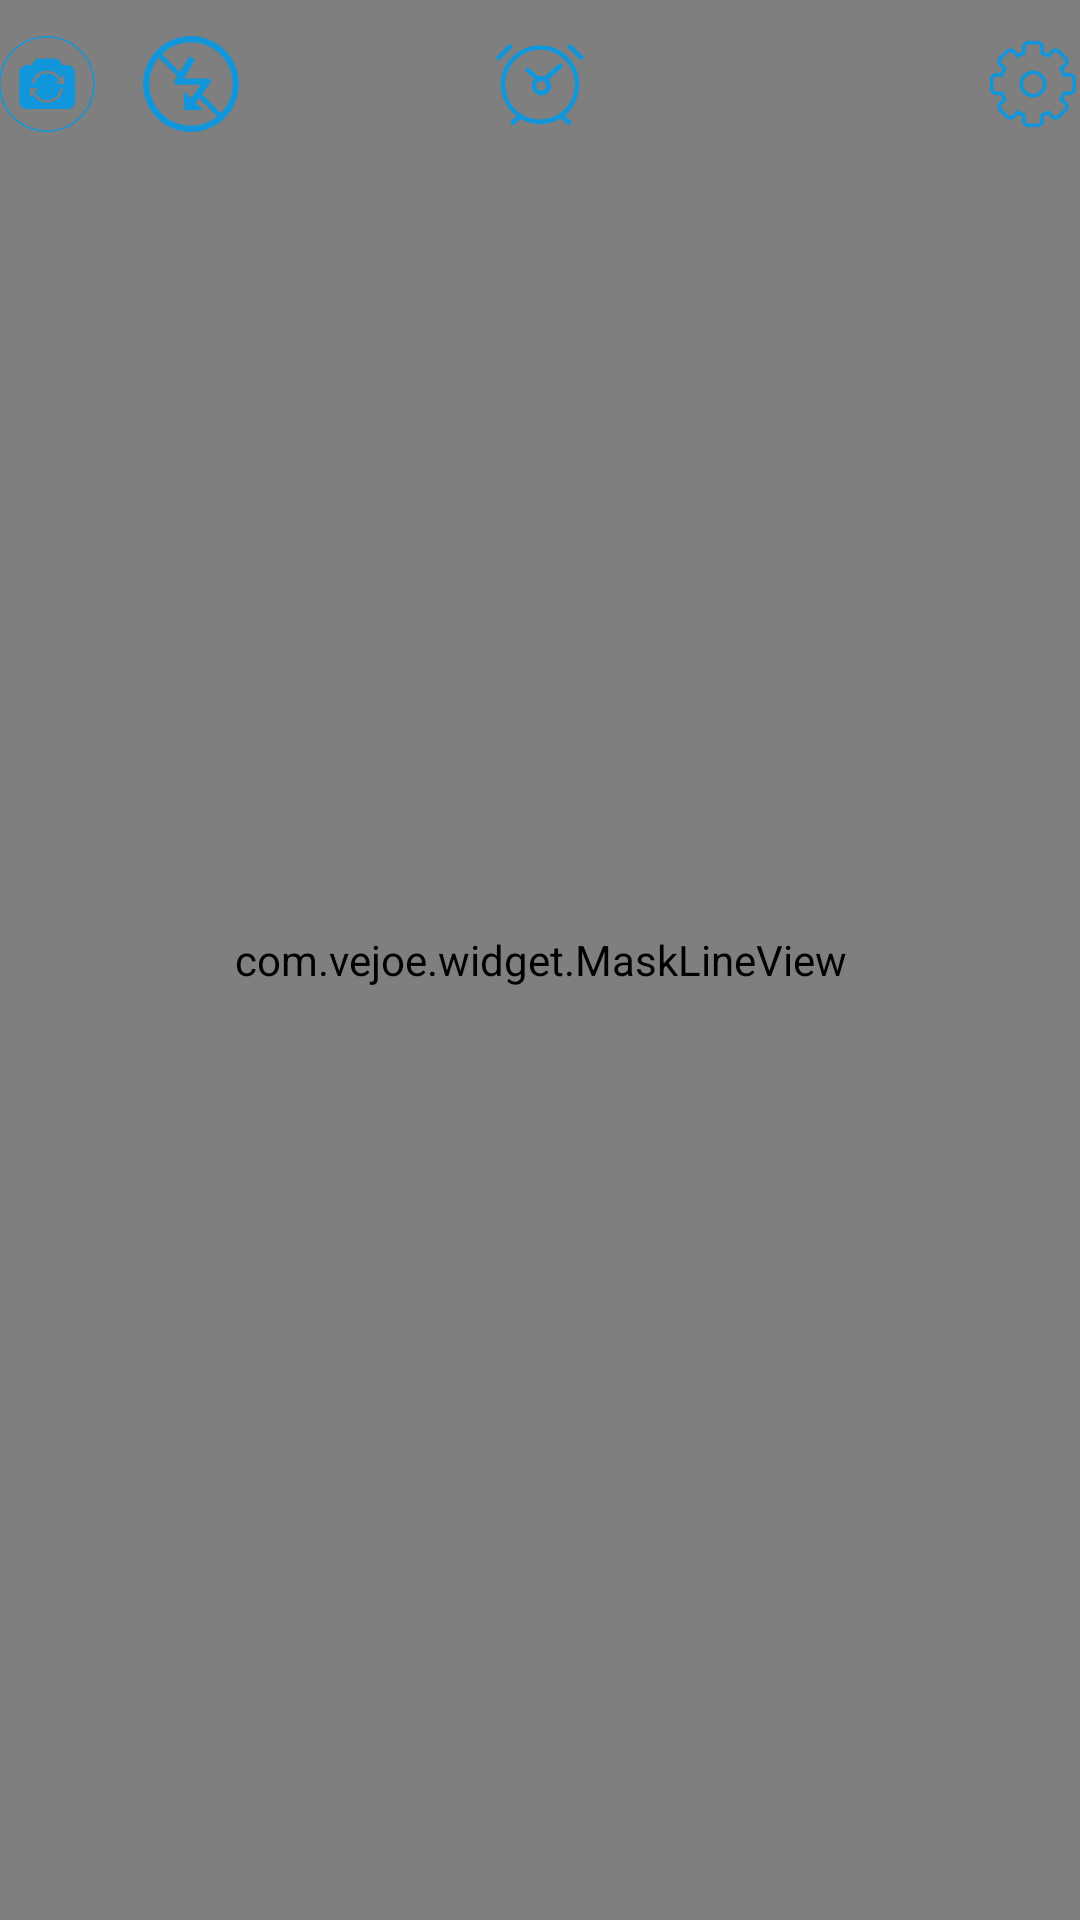

Icons on this 1080px×1920px Android screen, each with the point to tap as [x,y]:
alarm clock: [540,84]
camera switch: [47,84]
flash off: [191,84]
setting camera: [1033,84]
